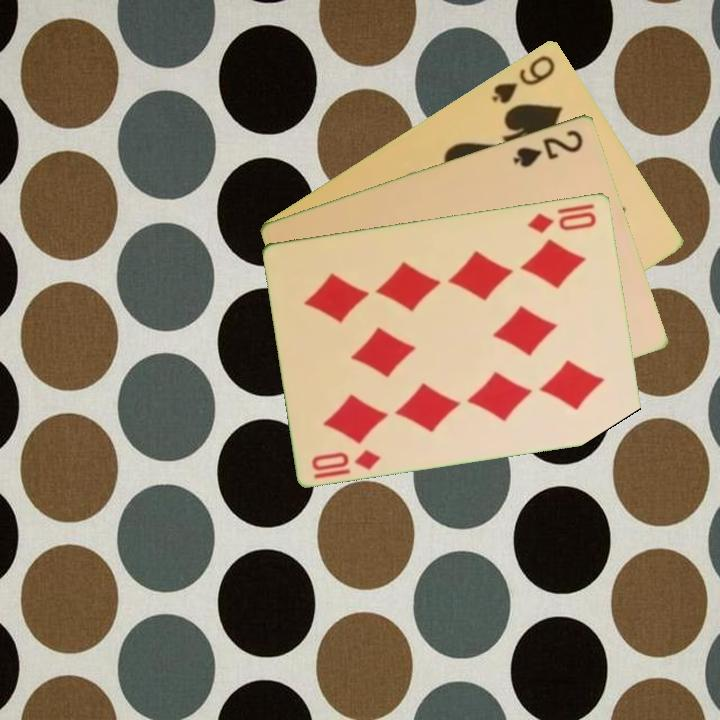10d: (308, 445, 384, 481), (524, 208, 600, 236)
2s: (509, 125, 586, 170)
9s: (488, 51, 559, 106)
